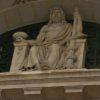Statue: (7, 2, 100, 81)
